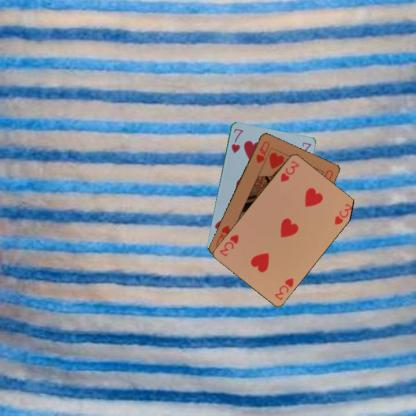3h: (272, 275, 295, 301), (278, 158, 300, 183)
7h: (229, 126, 244, 154)
Qh: (254, 138, 271, 165)
